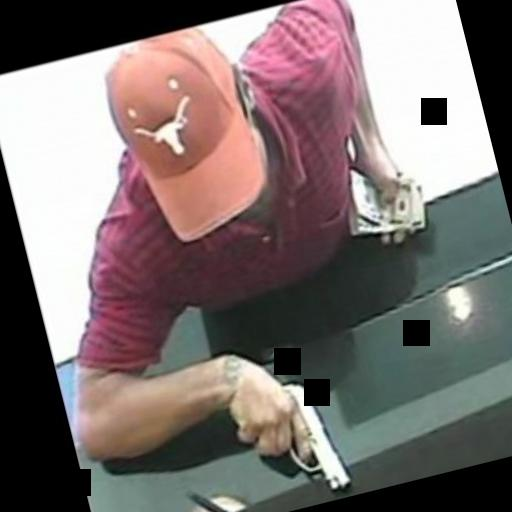Handgun: (222, 368, 350, 512)
